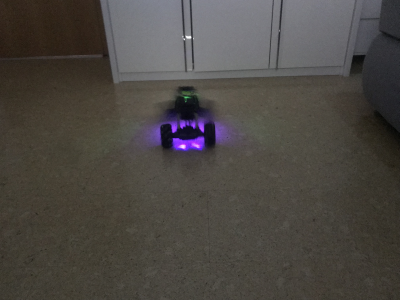remote control car: (155, 83, 217, 150)
